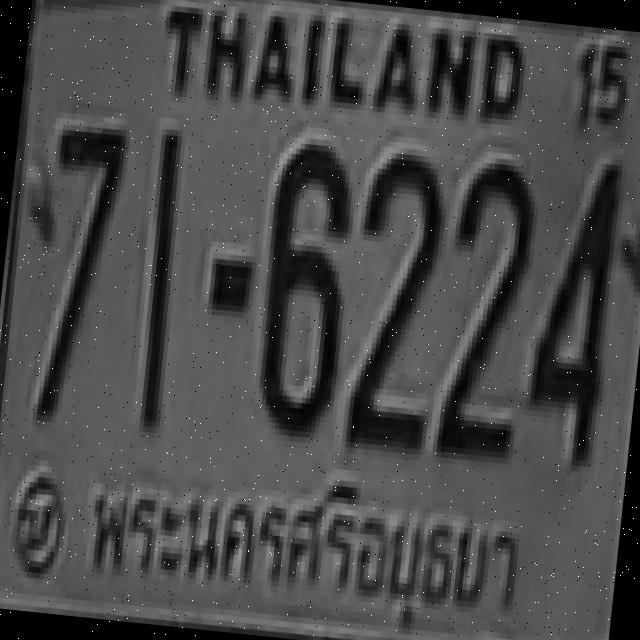2: (340, 148, 447, 424), (431, 157, 538, 433), (341, 178, 444, 448)
4: (520, 152, 623, 461)
6: (246, 135, 356, 434)
7: (26, 117, 124, 420)
Ayutthaya: (64, 438, 538, 640)
